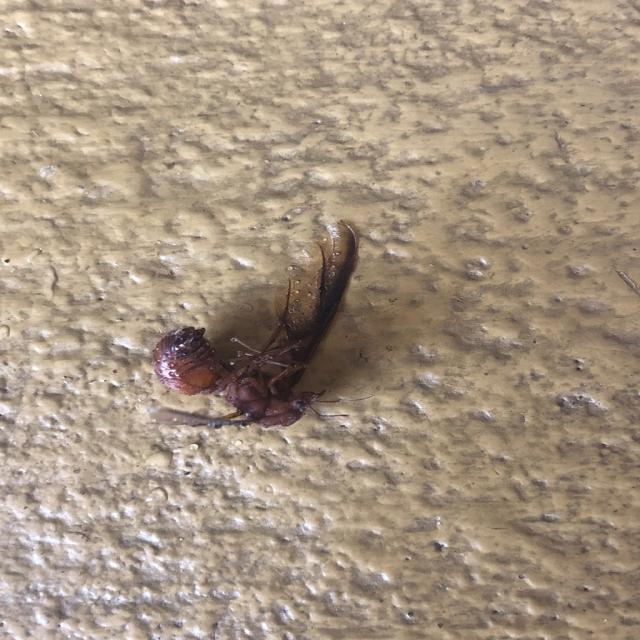Dead-Male-Alate: (152, 220, 377, 430)
